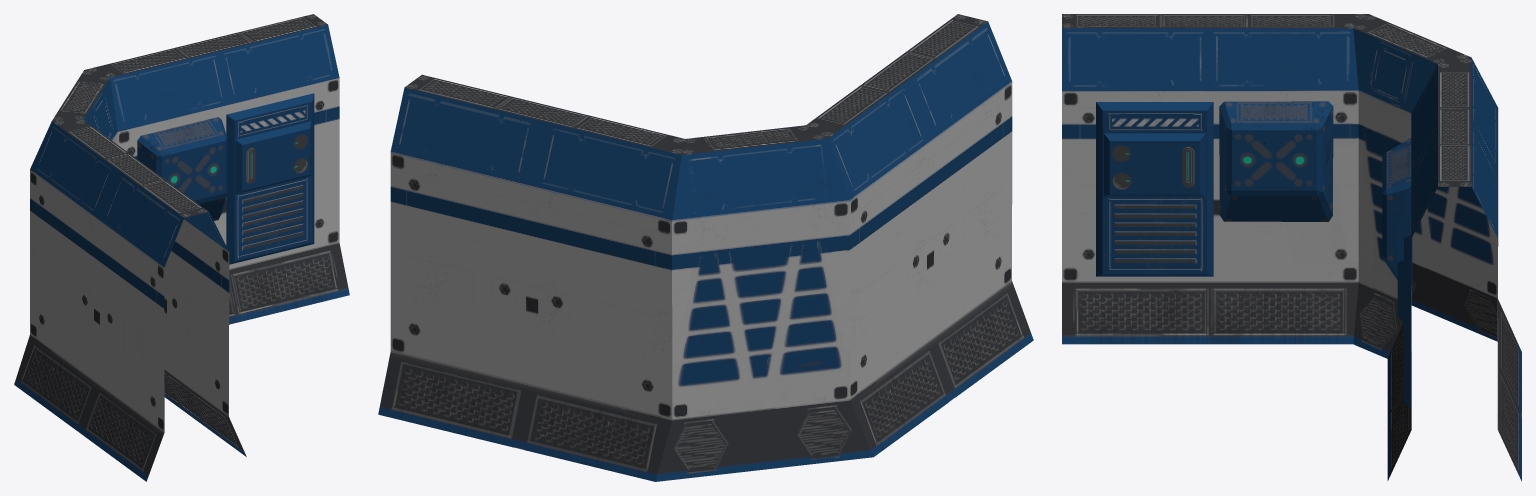
Rendered from Wall_angle_3_Sci_Fi.fbx.
3 renders of one model, left to right at view 1: azimuth 30°, elevation 25°; view 2: azimuth 150°, elevation 25°; view 3: azimuth 270°, elevation 25°, orthographic. The views are drawn at different scales.
Parts seen in each view (by area): view 1: Sci_Fi_wall_angle_3; view 2: Sci_Fi_wall_angle_3; view 3: Sci_Fi_wall_angle_3.
Boxes of the visible parts, x1,y1,x2,y2 form: Sci_Fi_wall_angle_3: (14,14,349,481); Sci_Fi_wall_angle_3: (378,14,1033,481); Sci_Fi_wall_angle_3: (1062,14,1521,481).
Size of the model in its own units: 558 by 395 by 558.
